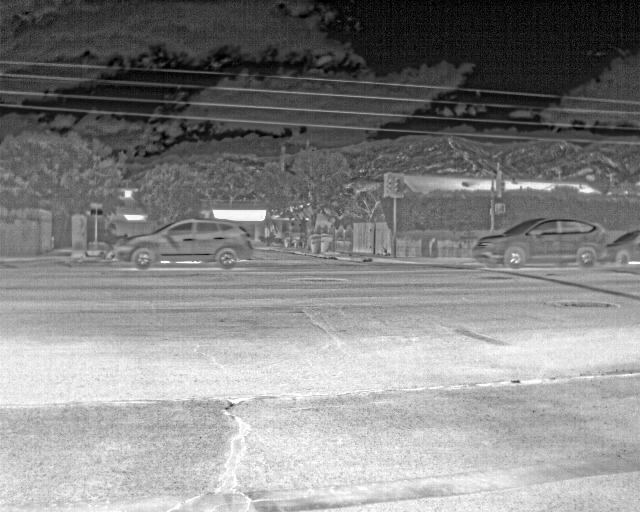car: (112, 216, 252, 271), (474, 216, 604, 271), (602, 227, 639, 266)
